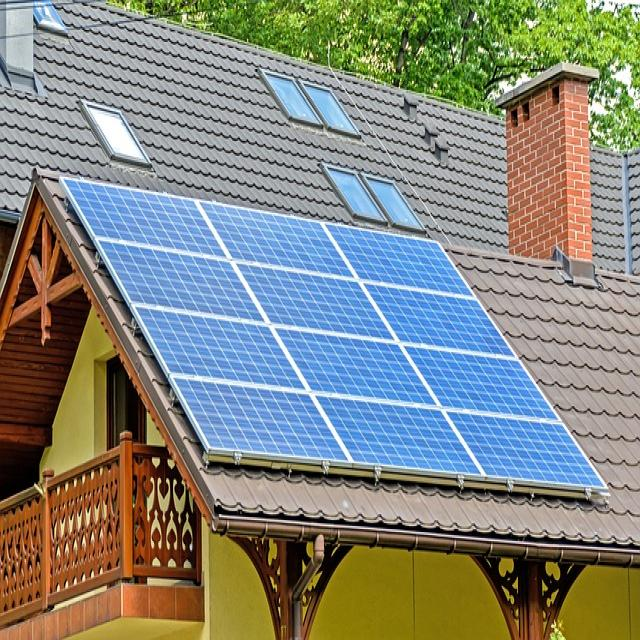clean-solar-panel: (61, 178, 609, 500)
